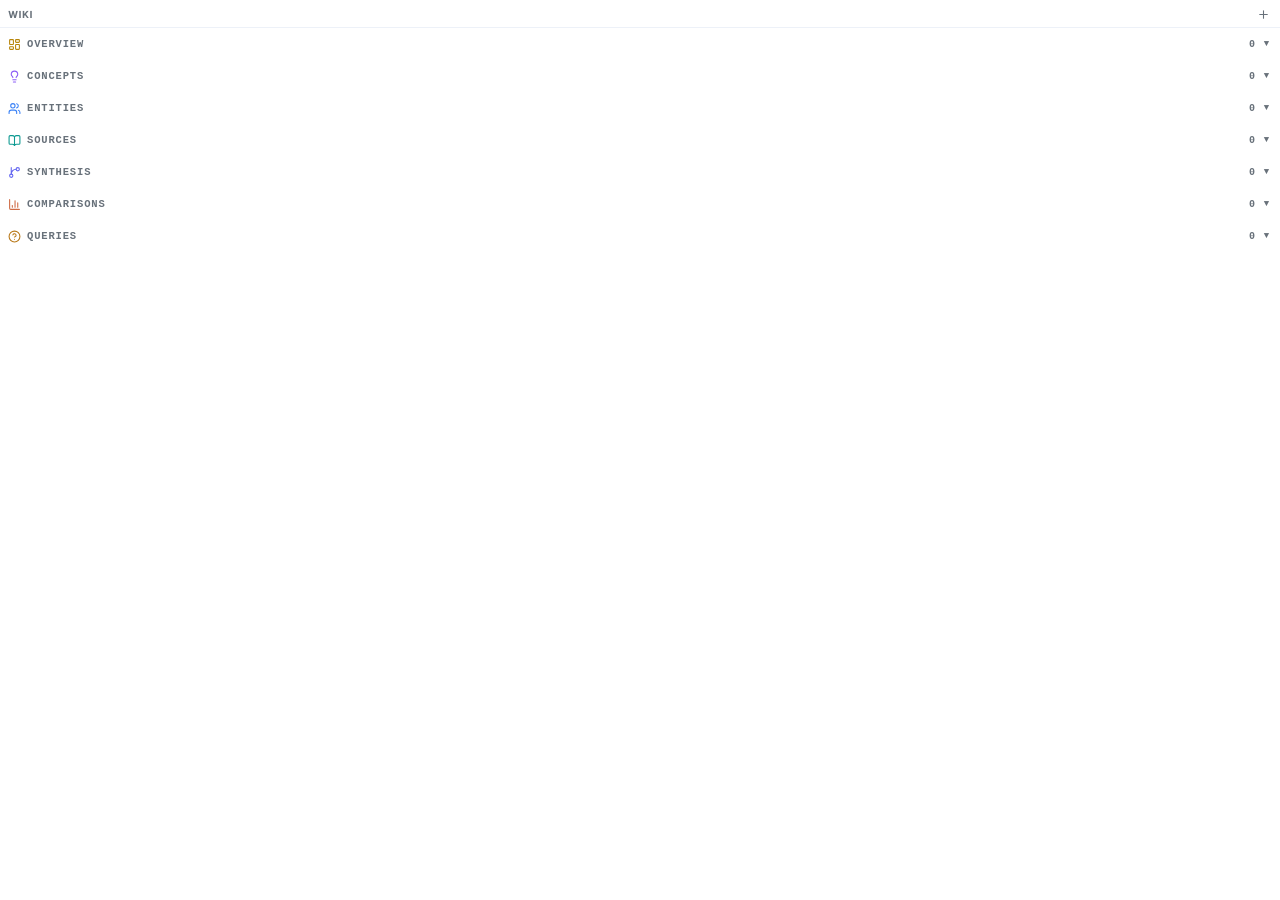
NavTree — R7-2 New page modal › shows validation error when title is empty on submit
Click the button with test id "nav-tree-new-page-btn". click: (1264, 14)
box: top-left (1255, 6), bottom-right (1272, 23)
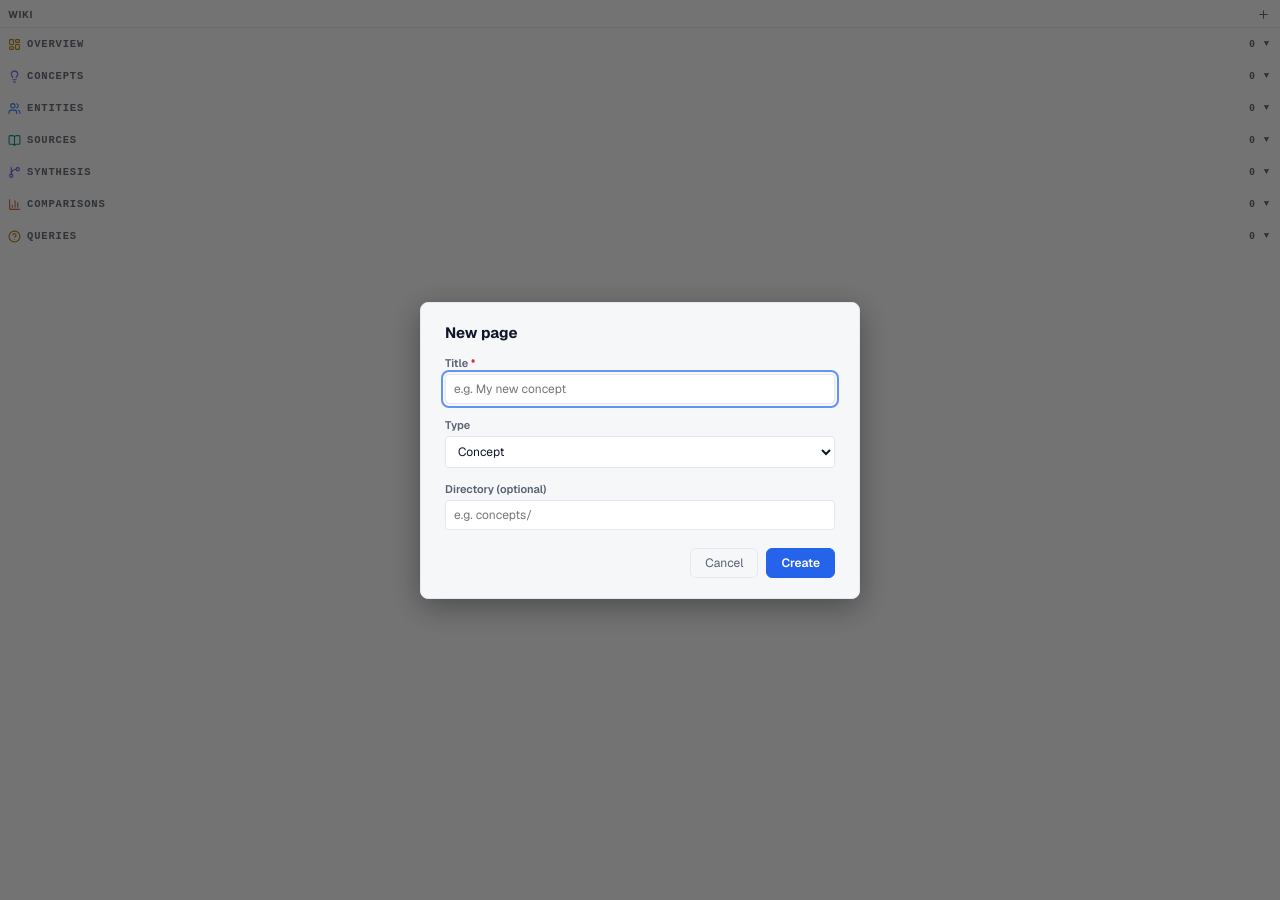
Result: the button "Create" is shown
Click the button "Create". click: (801, 562)
box: top-left (766, 548), bottom-right (835, 578)
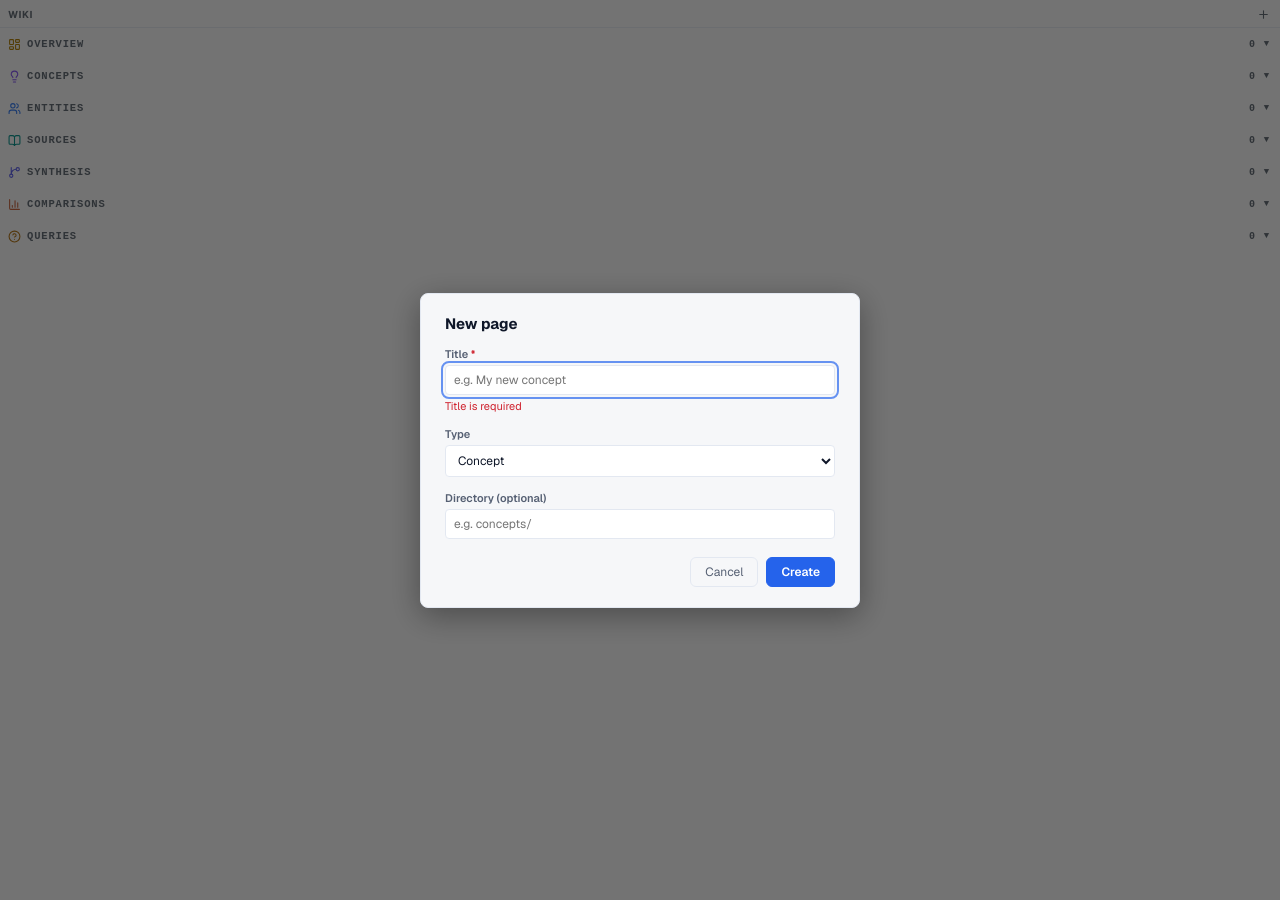
Result: the text "Title is required" is shown at top-left (445, 398), bottom-right (522, 412)
